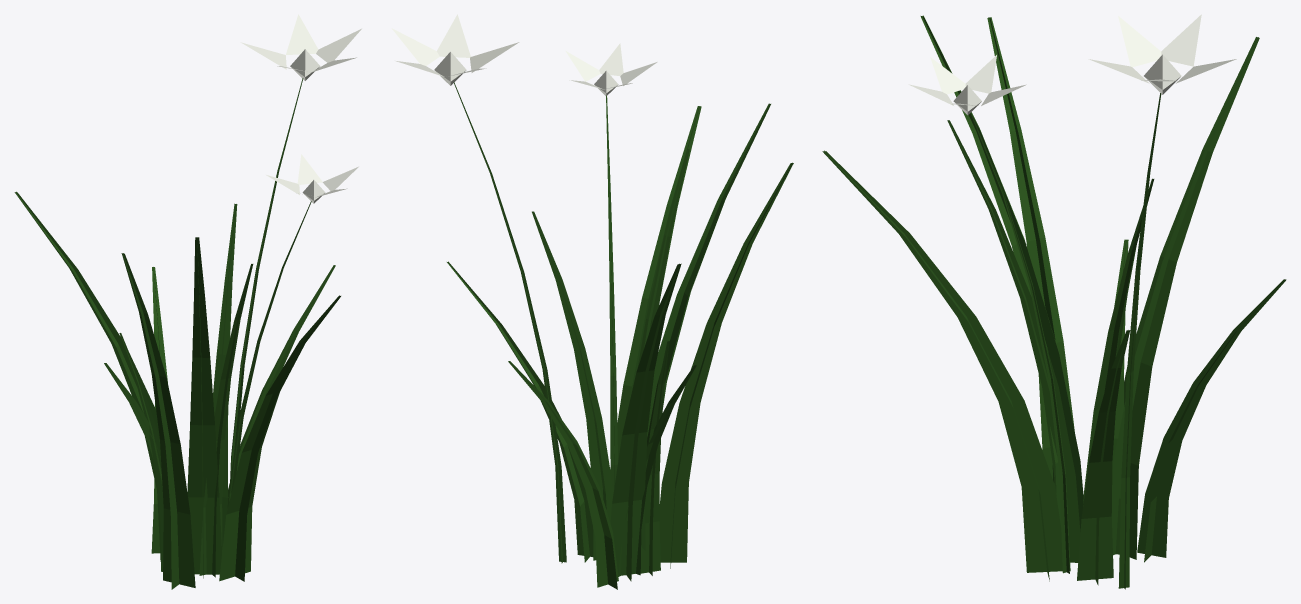
The model's file is BuiCo2.obj.
The picture shows the model from 3 angles, left to right: view 1: azimuth 30°, elevation 25°; view 2: azimuth 150°, elevation 25°; view 3: azimuth 270°, elevation 25°; orthographic projection. The views are drawn at different scales.
Parts seen in each view (by area): view 1: BuiCo2_Co, BuiCo2_Hoa; view 2: BuiCo2_Co, BuiCo2_Hoa; view 3: BuiCo2_Co, BuiCo2_Hoa.
Part boxes in pixels (bbox=[...]): BuiCo2_Co: bbox=[14, 78, 340, 589]; BuiCo2_Hoa: bbox=[240, 14, 361, 203]; BuiCo2_Co: bbox=[447, 82, 793, 589]; BuiCo2_Hoa: bbox=[391, 14, 657, 95]; BuiCo2_Co: bbox=[822, 15, 1286, 589]; BuiCo2_Hoa: bbox=[908, 14, 1236, 115].
Bounding box in the file's own units: 0.5243 × 0.7676 × 0.5399.
